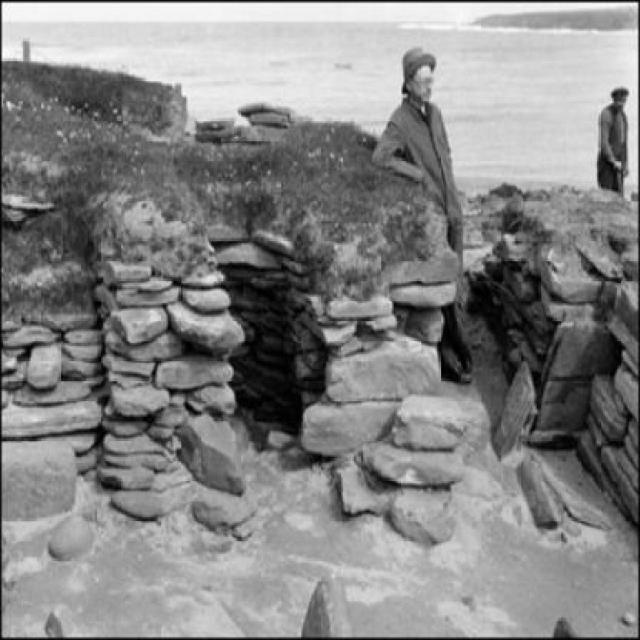obstacle: (371, 41, 477, 388), (597, 79, 626, 201)
